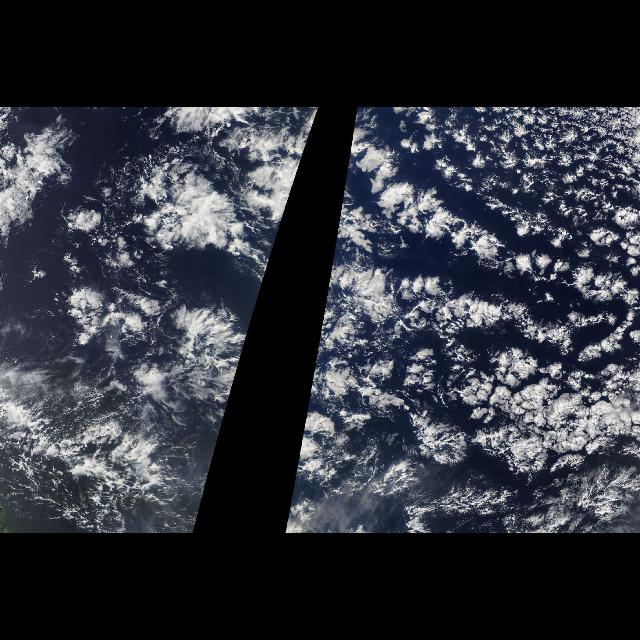Fish: (10, 131, 234, 477)
Flower: (340, 114, 640, 510)
